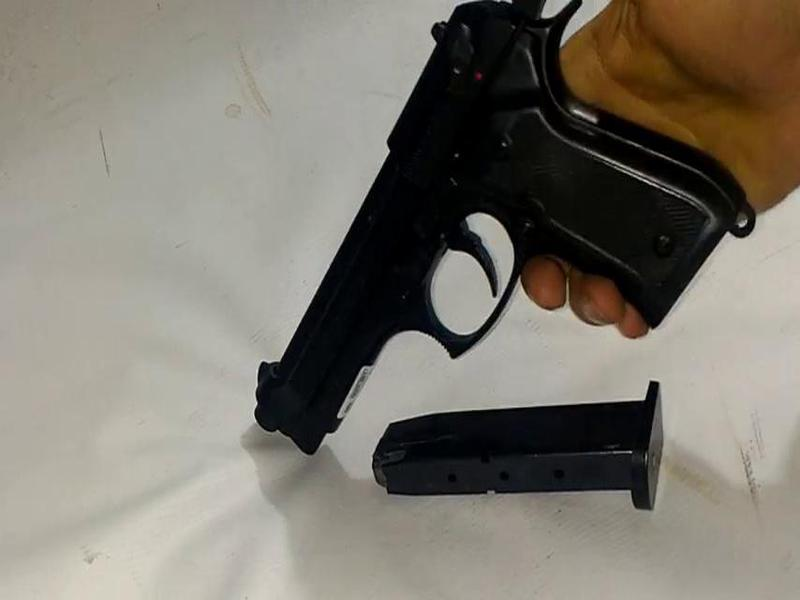Pistola: (218, 1, 769, 456)
